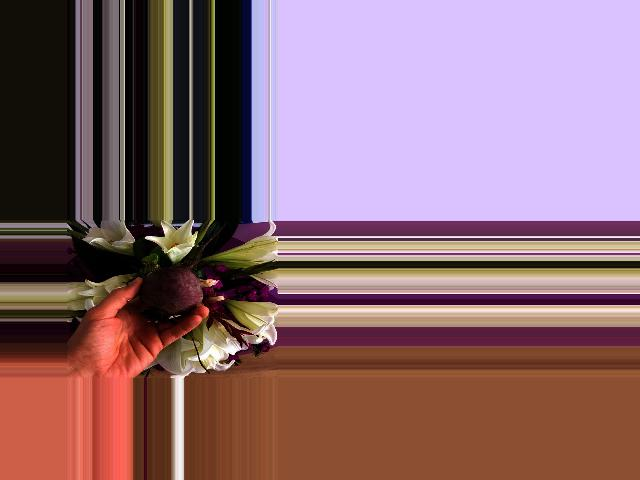beet: (140, 223, 227, 322)
